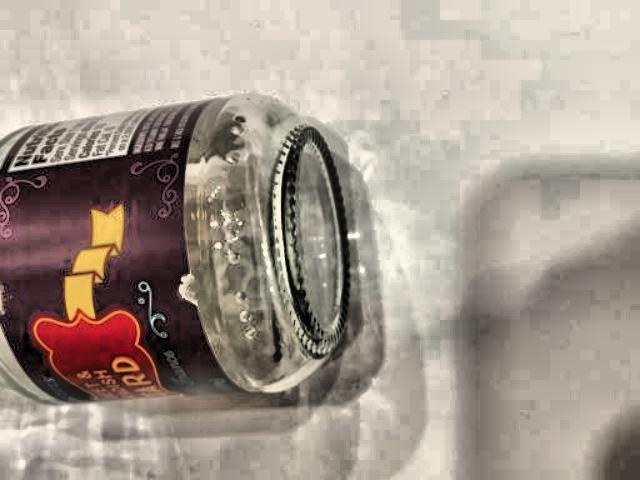Almennt: (0, 79, 367, 425)
